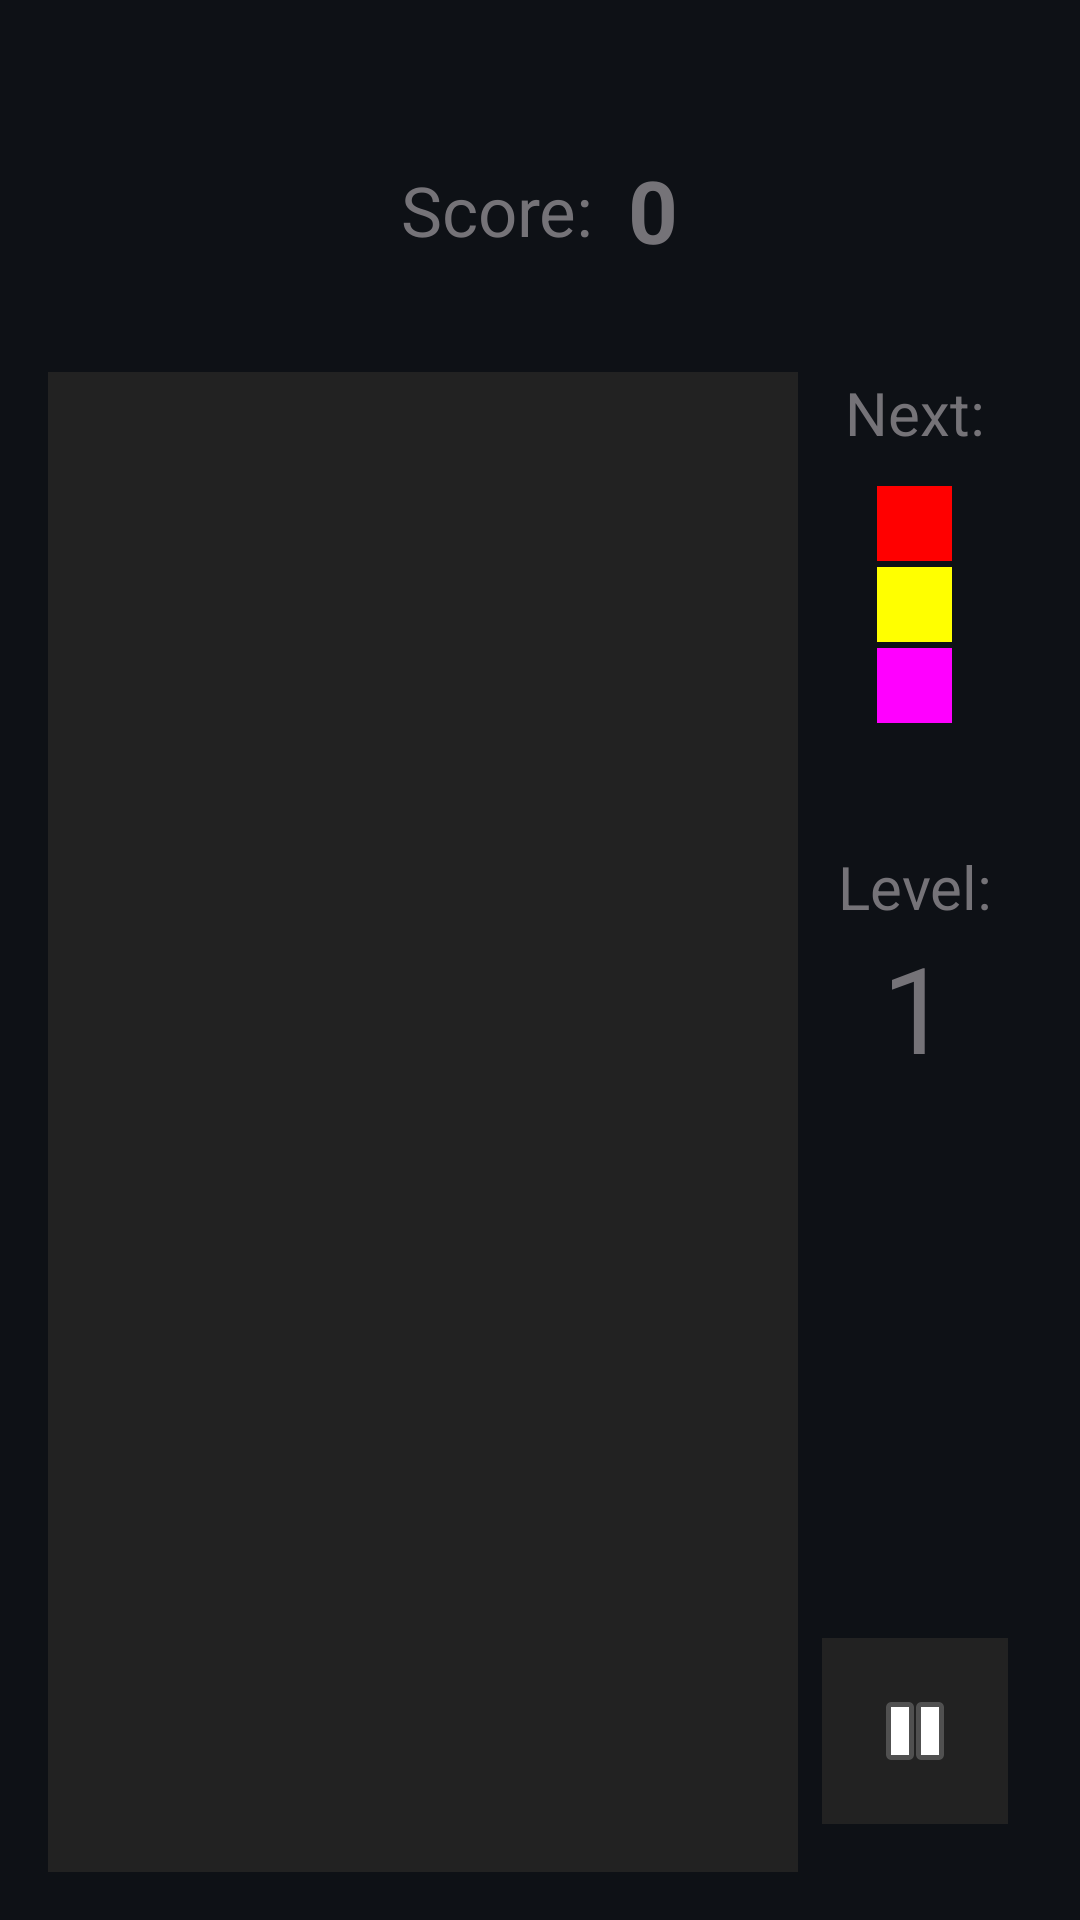

Screen size 1080 x 1920. Icon name, then its box in pixels as {"x1": x1, "y1": y1, "x2": x2, "y2": y2}:
pause: {"x1": 886, "y1": 1702, "x2": 944, "y2": 1760}
